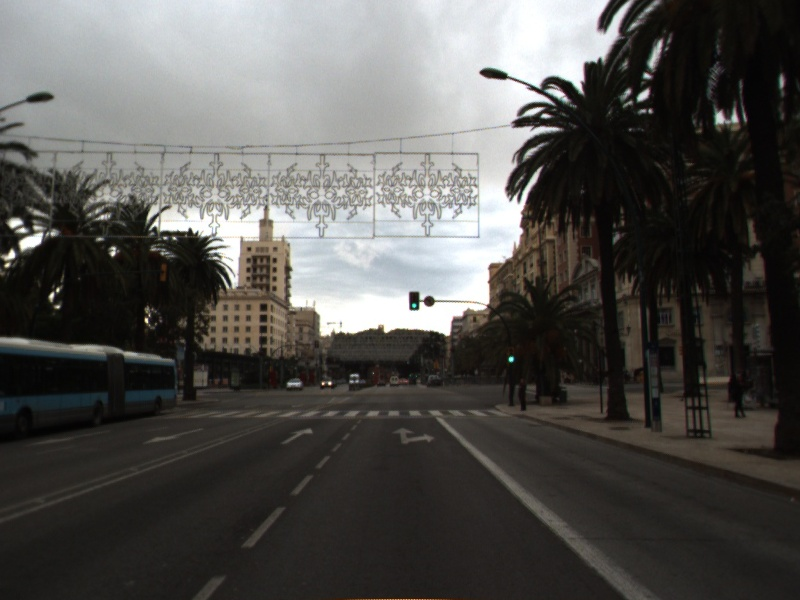STRAIGHT: (278, 425, 315, 446)
STRAIGHT_RIGHT: (390, 425, 437, 447)
